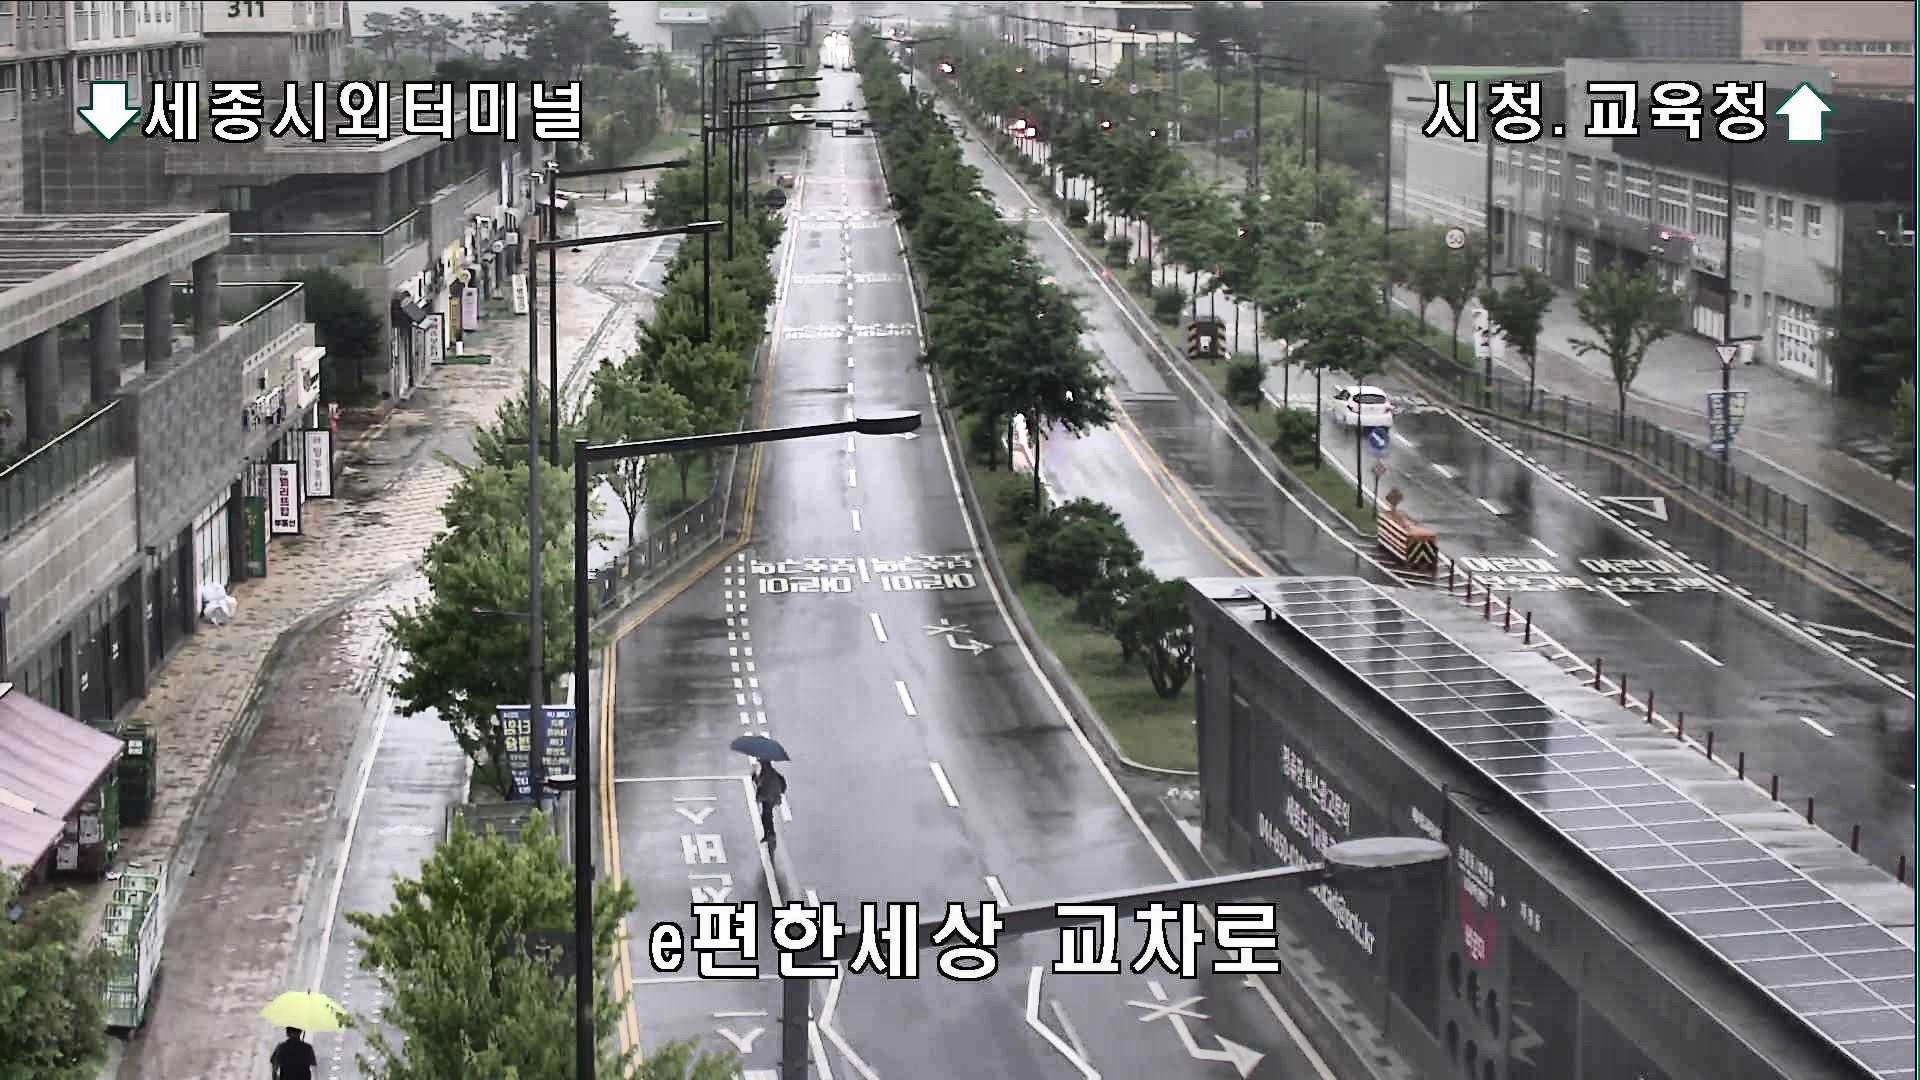um_jaywalk: (731, 735, 790, 849)
um_sidewalk: (262, 992, 349, 1080)
